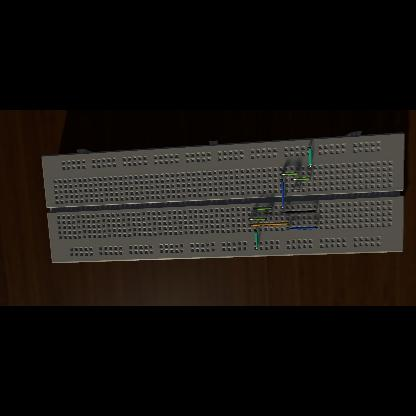breadboard: (41, 131, 404, 263)
wire: (249, 222, 289, 226), (281, 210, 317, 214), (287, 226, 317, 230), (280, 180, 284, 209), (308, 147, 312, 168), (280, 172, 300, 176), (254, 229, 258, 249), (292, 178, 310, 180), (254, 208, 272, 210), (249, 218, 267, 220), (292, 190, 300, 192), (264, 213, 272, 215)
